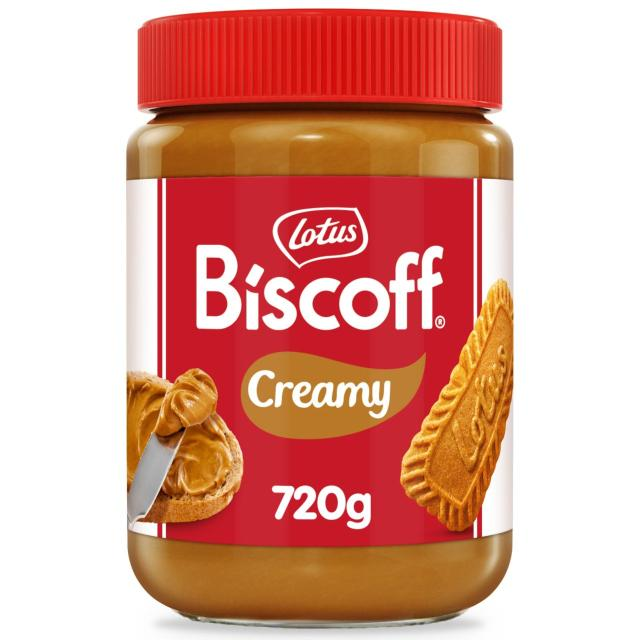food-package: (143, 18, 527, 212)
food-supliment: (132, 132, 522, 606)
